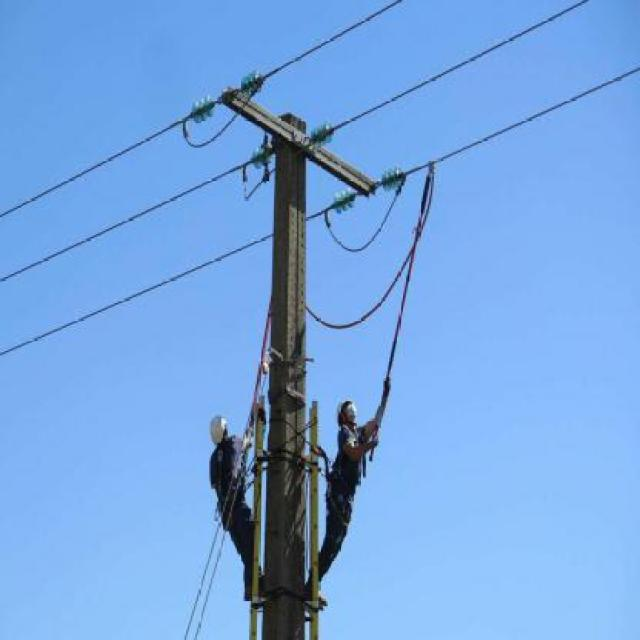light_pole: (252, 84, 329, 640)
